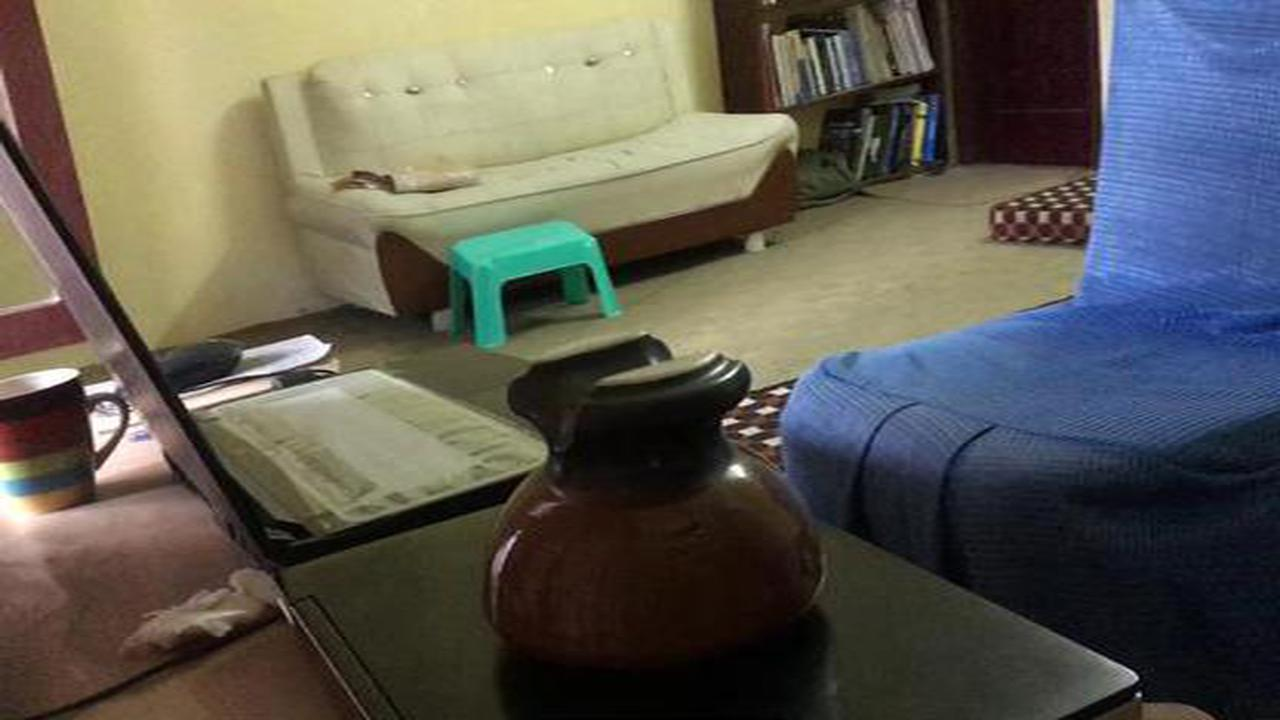insulator_pin: (462, 333, 847, 691)
